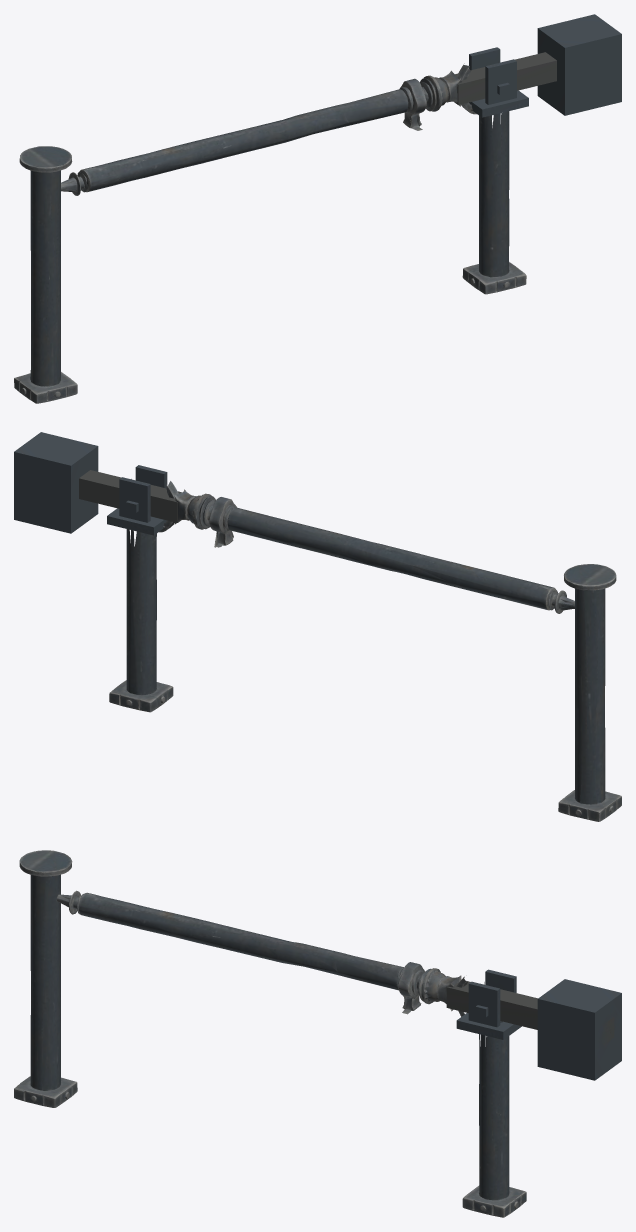
File: p2_boom_barrier.glb
3 views of the same model, one above another, from view 1: azimuth 30°, elevation 25°; view 2: azimuth 150°, elevation 25°; view 3: azimuth 330°, elevation 25° (orthographic).
Visible parts, largest first — view 1: main; view 2: main; view 3: main.
Boxes of the visible parts, x1,y1,x2,y2 form: main: [14, 14, 621, 403]; main: [14, 432, 621, 821]; main: [14, 850, 621, 1217].
Size of the model in its own units: 3 by 1.15 by 0.2402.
1 material, 1 textured.
